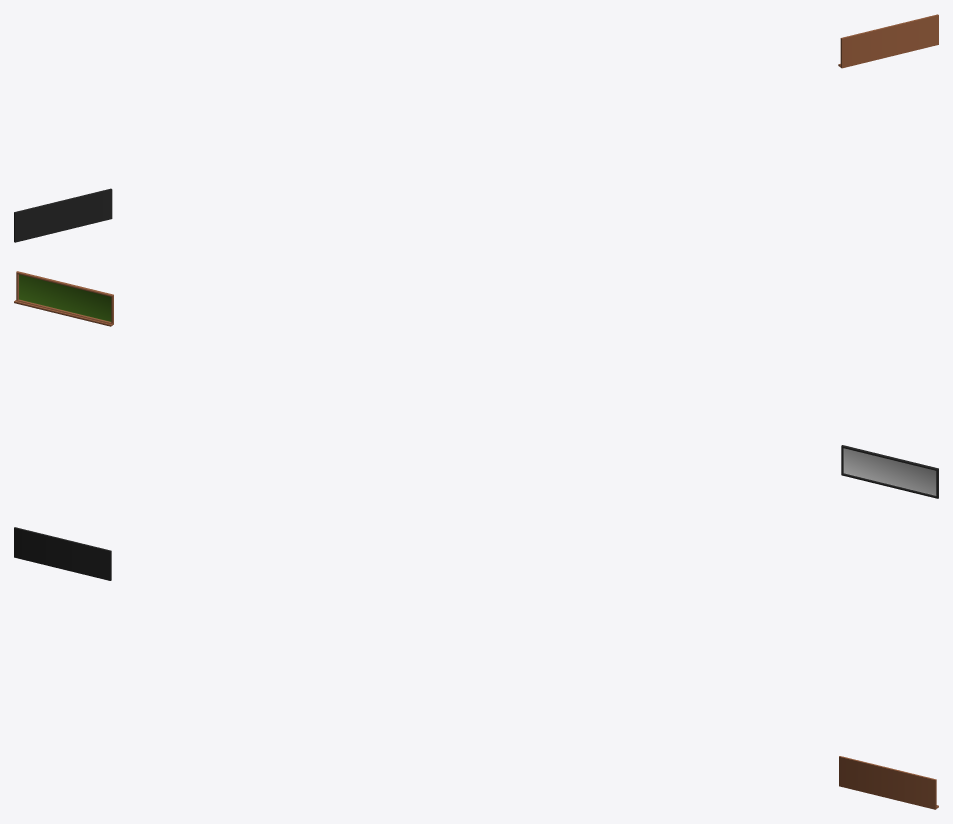
The model's file is blackboardbig.fbx.
3 renders of one model, top to bottom at view 1: azimuth 30°, elevation 25°; view 2: azimuth 150°, elevation 25°; view 3: azimuth 330°, elevation 25°, orthographic.
Visible parts, largest first — view 1: Cube, Cube.040; view 2: Cube, Cube.040; view 3: Cube, Cube.040.
Boxes of the visible parts, bbox=[...] form: Cube: bbox=[838, 14, 938, 68]; Cube.040: bbox=[14, 188, 112, 242]; Cube: bbox=[14, 271, 113, 326]; Cube.040: bbox=[841, 445, 938, 498]; Cube: bbox=[839, 756, 938, 809]; Cube.040: bbox=[14, 527, 111, 580].
Bounding box in the file's own units: 4324 × 256 × 27.58.
Materials: 1 (1 with a texture image).
